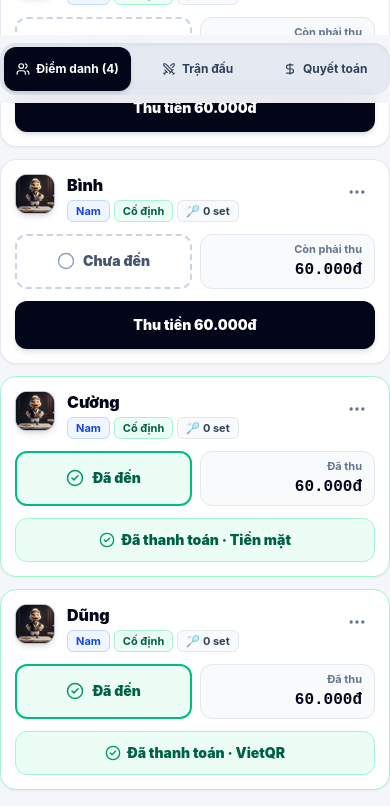
Test: HostDashboardView - thẻ điểm danh trên mobile › menu ẩn "Hoàn tác thu tiền" khi canUndoPayment=false; Xóa & Sửa hóa đơn bị khóa với lượt đã thanh toán
(page scrolled)
Click the button named "Thao tác khác cho Dũng". click: (357, 622)
box: [335, 600, 379, 644]
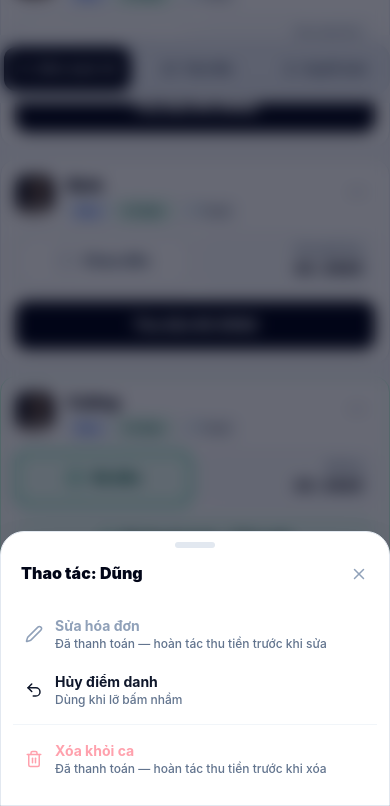
Now the button "Xóa khỏi ca Đã thanh toán — hoàn tác thu tiền trước khi xóa" is disabled, box [13, 733, 377, 785]
Now the button "Sửa hóa đơn Đã thanh toán — hoàn tác thu tiền trước khi sửa" is disabled, box [13, 608, 377, 660]
Now the text "Đã thanh toán — hoàn tác thu tiền trước khi xóa" is shown, box [55, 761, 327, 777]
